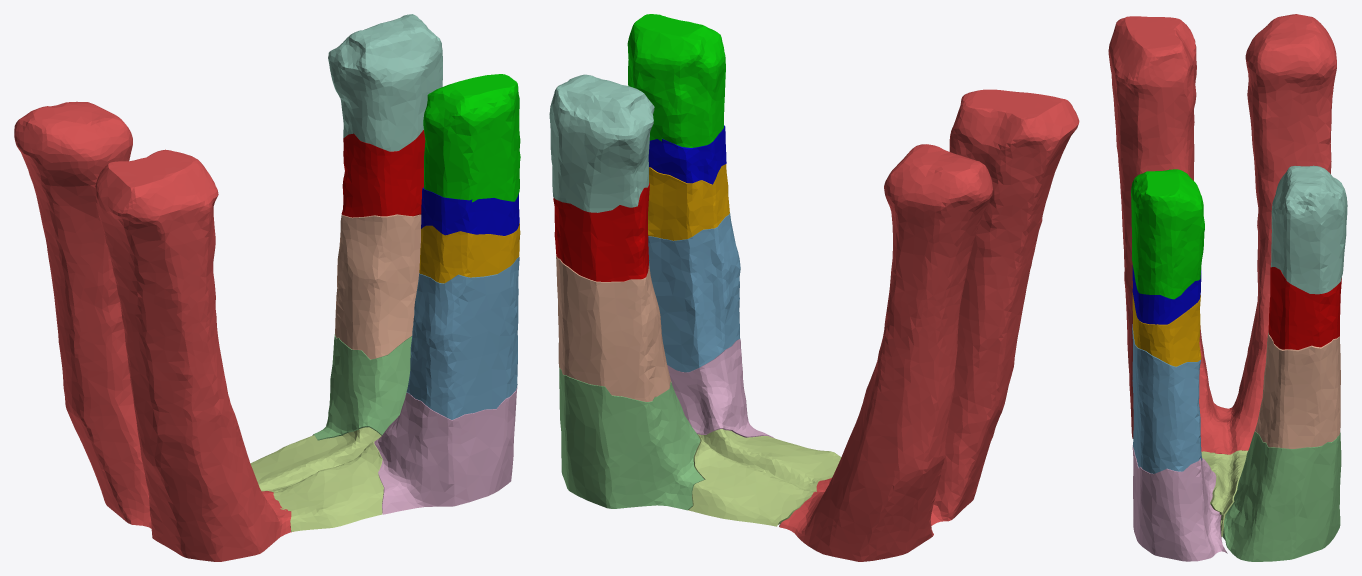
Rendered from fractured_15_11pcs.glb.
3 views of the same model, side by side, from view 1: azimuth 30°, elevation 25°; view 2: azimuth 150°, elevation 25°; view 3: azimuth 270°, elevation 25° (orthographic). The views are drawn at different scales.
Visible parts, largest first — view 1: piece_1.obj, piece_2.obj, piece_6.obj, piece_4.obj, piece_8.obj, piece_7.obj, piece_5.obj, piece_3.obj, piece_9.obj, piece_0.obj, piece_10.obj; view 2: piece_1.obj, piece_3.obj, piece_4.obj, piece_7.obj, piece_2.obj, piece_8.obj, piece_5.obj, piece_9.obj, piece_6.obj, piece_0.obj, piece_10.obj; view 3: piece_1.obj, piece_3.obj, piece_8.obj, piece_4.obj, piece_7.obj, piece_6.obj, piece_2.obj, piece_9.obj, piece_0.obj, piece_10.obj, piece_5.obj.
Part boxes in pixels (x1=…): piece_1.obj: x1=14, y1=101, x2=293, y2=561; piece_2.obj: x1=406, y1=257, x2=519, y2=419; piece_6.obj: x1=374, y1=387, x2=517, y2=514; piece_4.obj: x1=328, y1=14, x2=442, y2=151; piece_8.obj: x1=423, y1=74, x2=520, y2=202; piece_7.obj: x1=335, y1=214, x2=421, y2=359; piece_5.obj: x1=250, y1=427, x2=383, y2=531; piece_3.obj: x1=312, y1=334, x2=411, y2=440; piece_9.obj: x1=341, y1=130, x2=425, y2=217; piece_0.obj: x1=419, y1=223, x2=520, y2=283; piece_10.obj: x1=421, y1=187, x2=519, y2=235; piece_1.obj: x1=779, y1=89, x2=1079, y2=561; piece_3.obj: x1=559, y1=367, x2=704, y2=510; piece_4.obj: x1=549, y1=74, x2=654, y2=212; piece_7.obj: x1=556, y1=255, x2=671, y2=401; piece_2.obj: x1=648, y1=213, x2=740, y2=372; piece_8.obj: x1=627, y1=14, x2=725, y2=147; piece_5.obj: x1=688, y1=429, x2=841, y2=526; piece_9.obj: x1=553, y1=183, x2=649, y2=281; piece_6.obj: x1=667, y1=339, x2=774, y2=438; piece_0.obj: x1=648, y1=164, x2=729, y2=240; piece_10.obj: x1=648, y1=125, x2=726, y2=184; piece_1.obj: x1=1108, y1=14, x2=1336, y2=454; piece_3.obj: x1=1222, y1=431, x2=1341, y2=561; piece_8.obj: x1=1131, y1=169, x2=1204, y2=299; piece_4.obj: x1=1271, y1=165, x2=1347, y2=294; piece_7.obj: x1=1254, y1=330, x2=1340, y2=448; piece_6.obj: x1=1132, y1=445, x2=1227, y2=561; piece_2.obj: x1=1132, y1=324, x2=1202, y2=473; piece_9.obj: x1=1268, y1=267, x2=1341, y2=349; piece_0.obj: x1=1132, y1=293, x2=1201, y2=366; piece_10.obj: x1=1132, y1=265, x2=1201, y2=324; piece_5.obj: x1=1201, y1=450, x2=1247, y2=536.
Size of the model in its own units: 0.9907 by 0.8899 by 0.5278.
